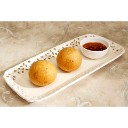bonda: (30, 59, 59, 86), (57, 46, 83, 71)
